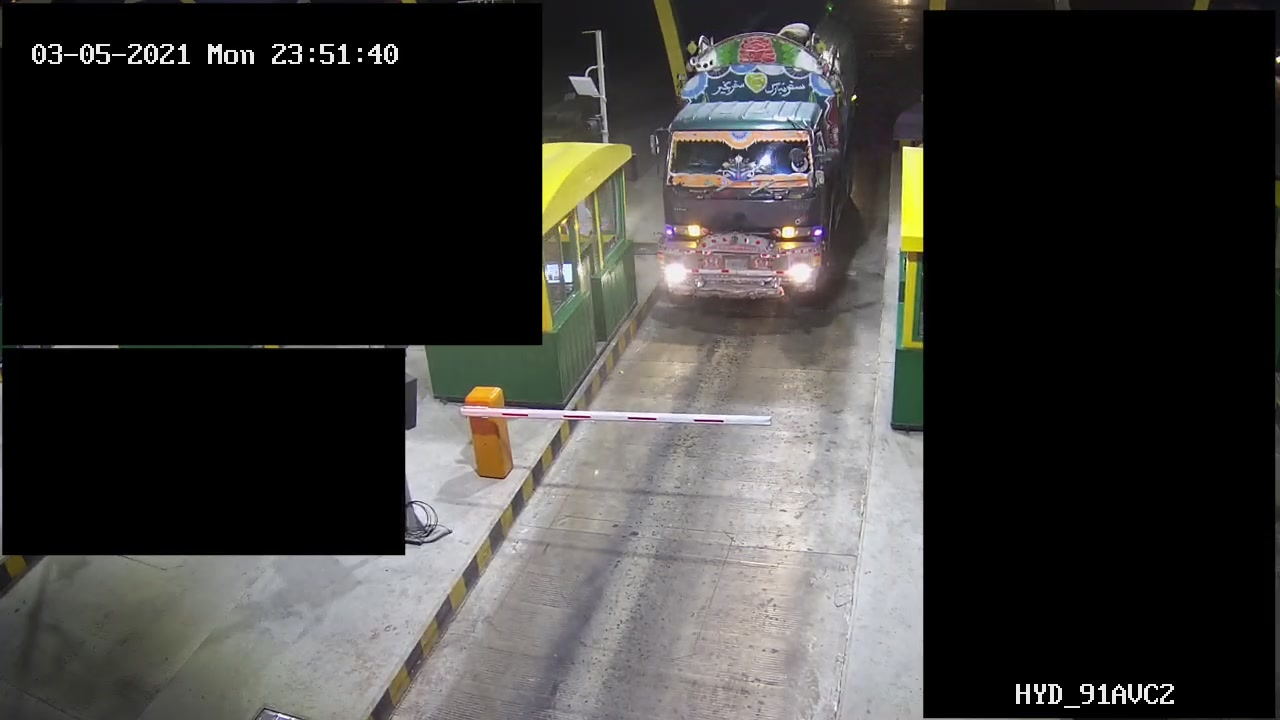F6: (659, 19, 863, 311)
